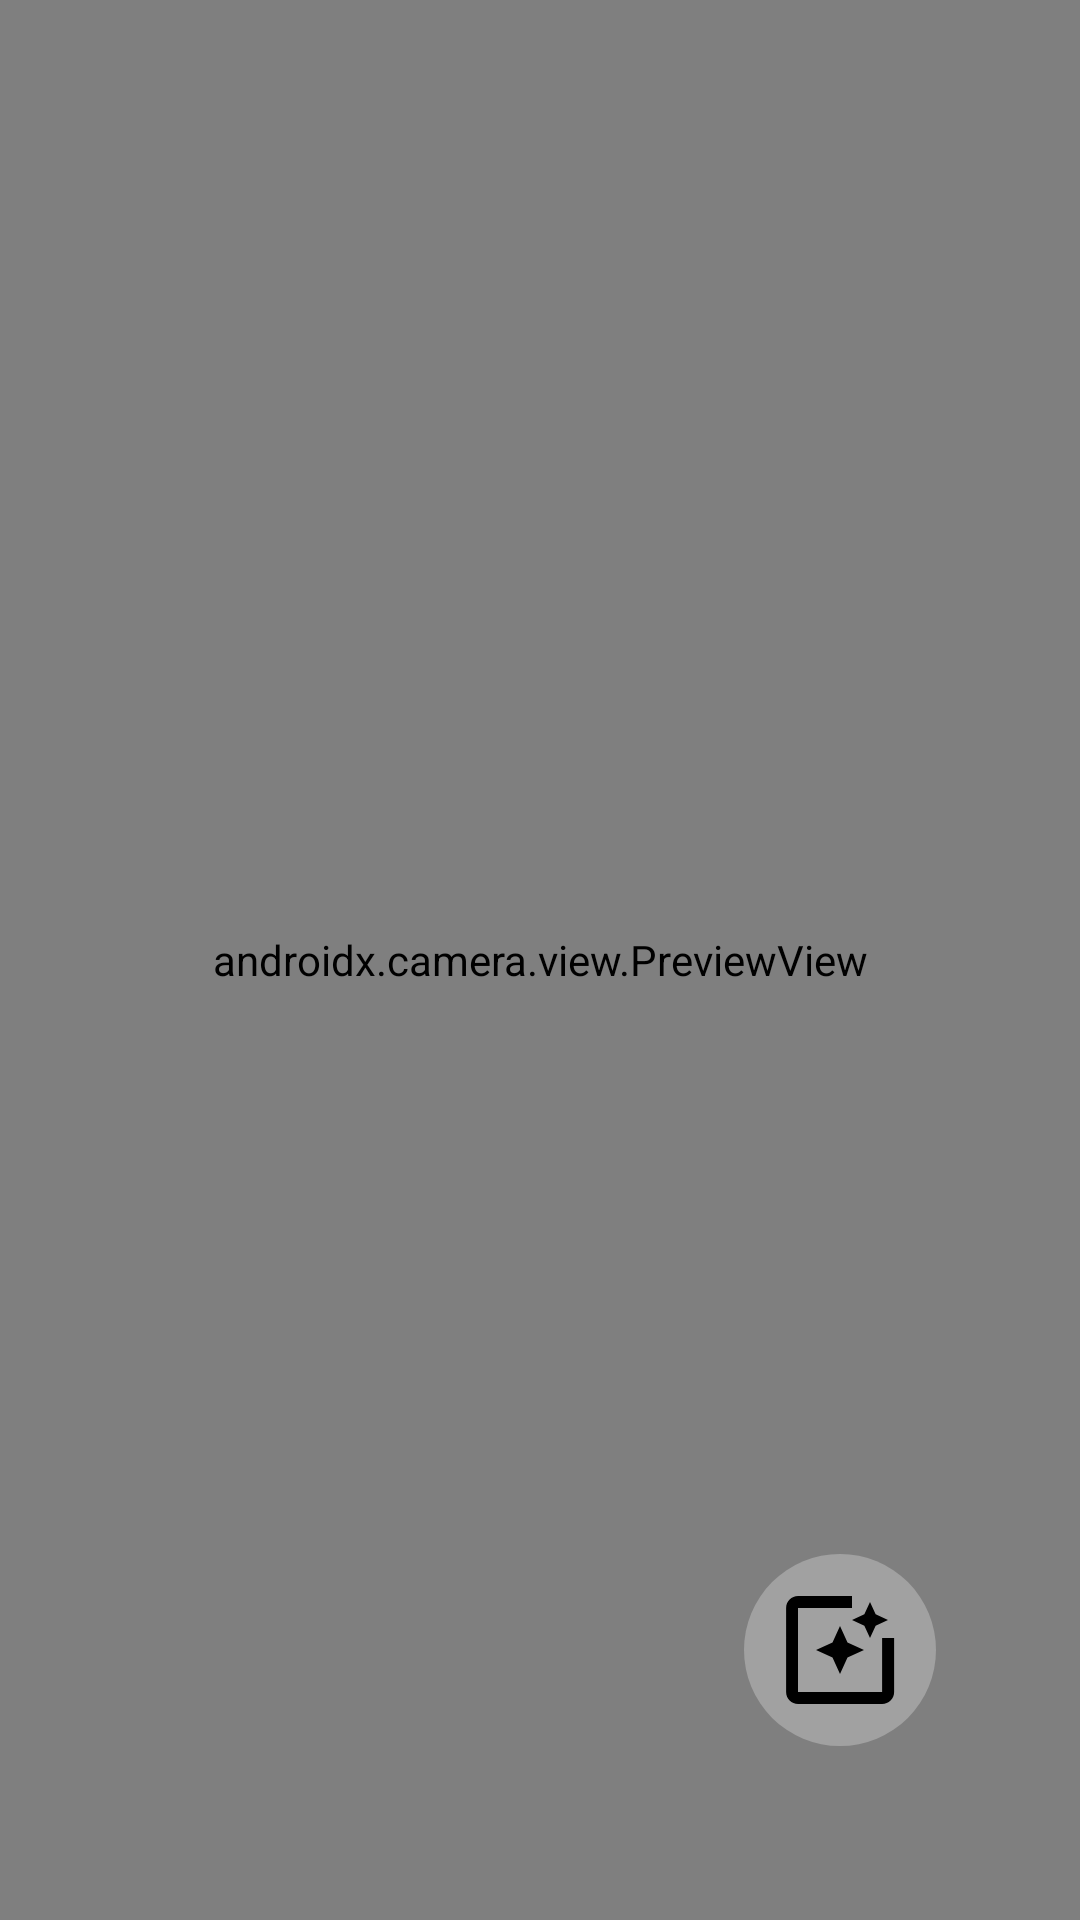

Icon bounding boxes for this 1080 × 1920 phone screenshot, format (x1, y1, x2, y2):
filter: (744, 1554, 936, 1746)
